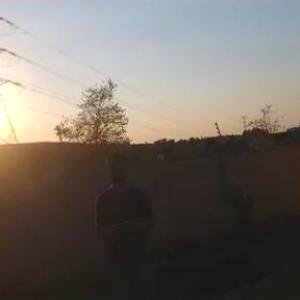follow: (93, 142, 159, 299)
